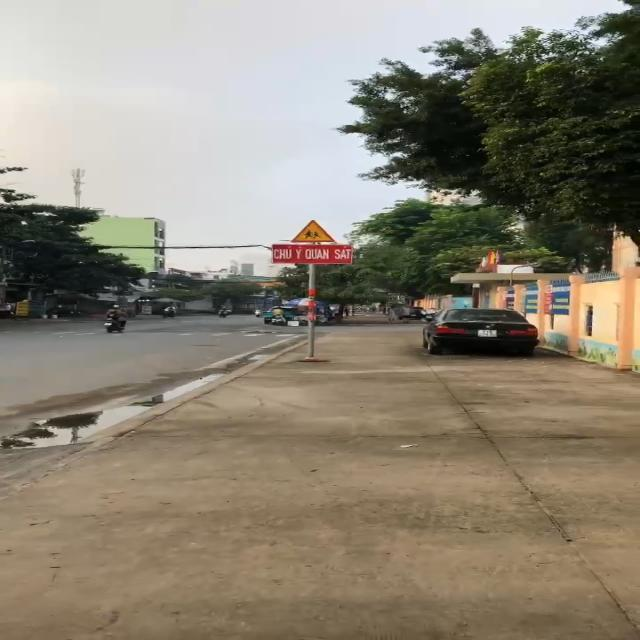Bien bao tre em: (289, 216, 335, 244)
